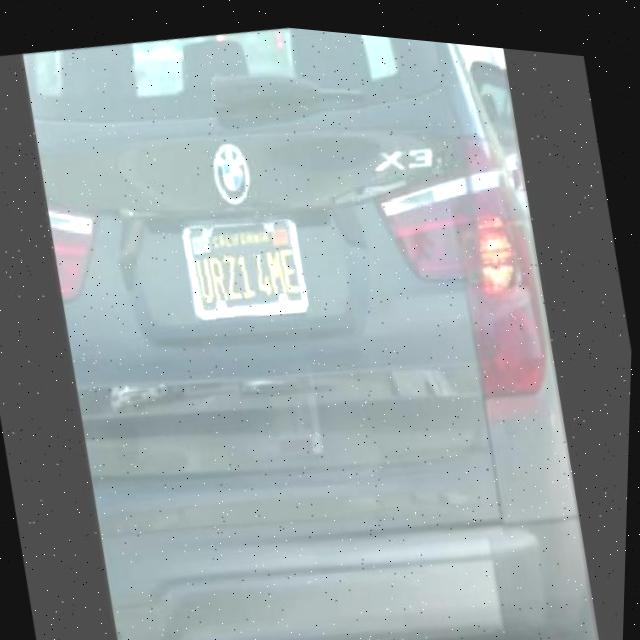LicensePlate: (180, 205, 313, 326)
